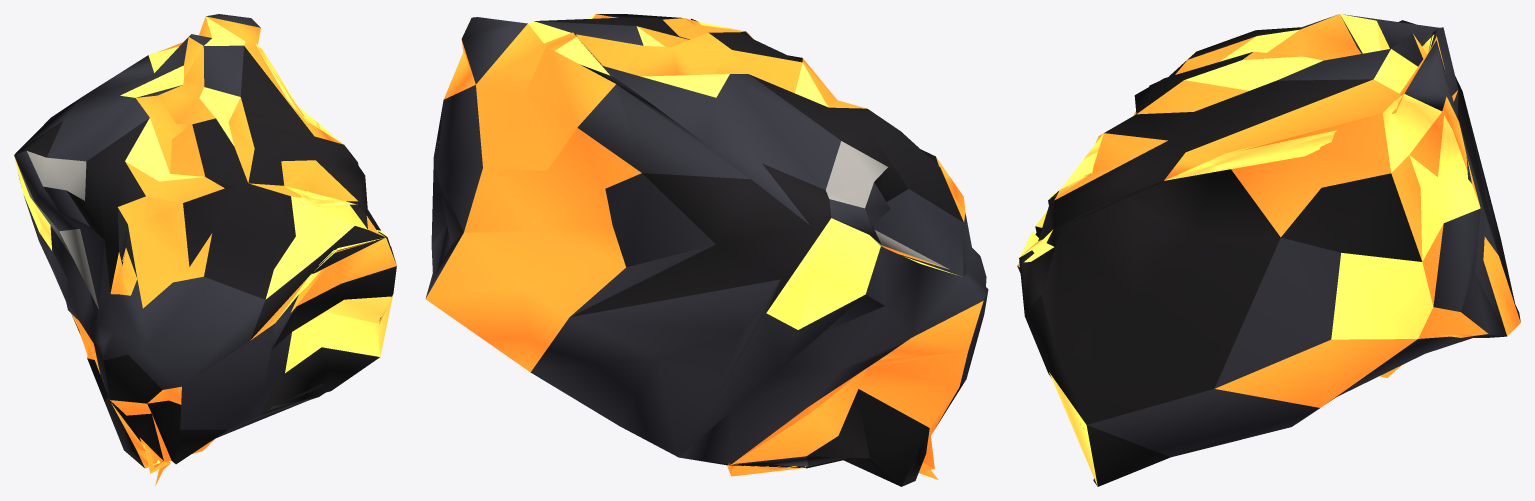
Rendered from ember_coal_hot_b_lod1.glb.
The picture shows the model from 3 angles, left to right: view 1: azimuth 30°, elevation 25°; view 2: azimuth 150°, elevation 25°; view 3: azimuth 270°, elevation 25°; orthographic projection. The views are drawn at different scales.
Visible parts, largest first — view 1: ember_coal_hot_b.001; view 2: ember_coal_hot_b.001; view 3: ember_coal_hot_b.001.
Part boxes in pixels (<box>): ember_coal_hot_b.001: <box>14,14,396,485</box>; ember_coal_hot_b.001: <box>425,14,988,486</box>; ember_coal_hot_b.001: <box>1017,14,1520,486</box>.
Bounding box in the file's own units: 2.95 × 3.6 × 3.18.
